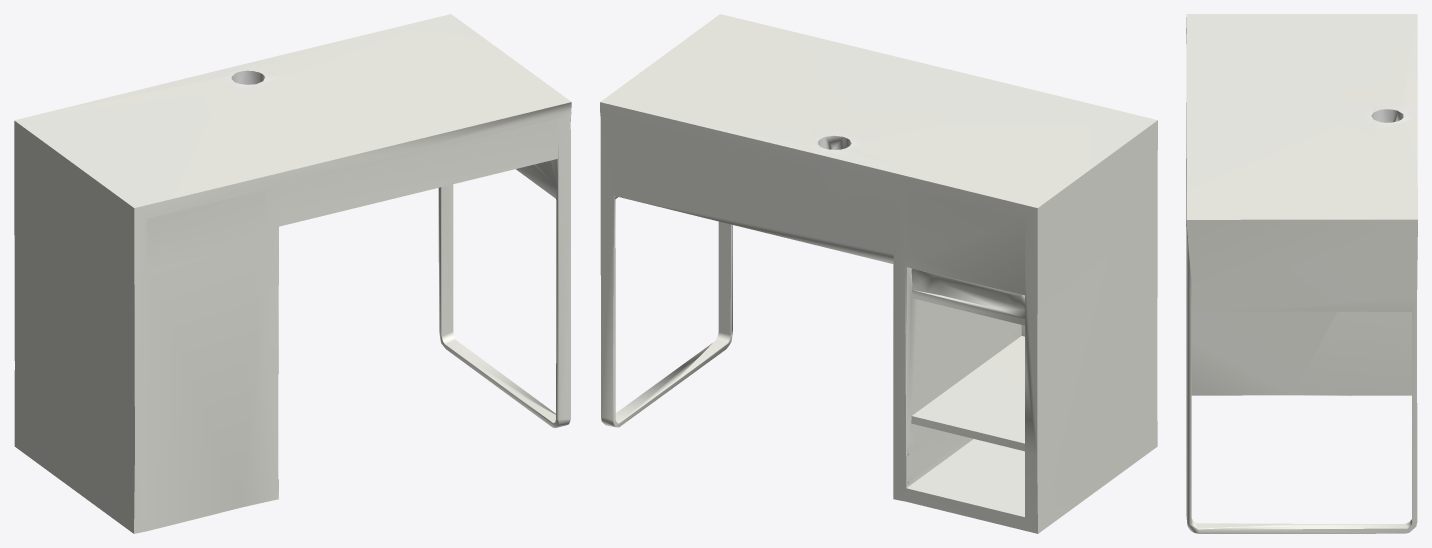
The model's file is 03 - MICKE Desk - white 105x50 cm.glb.
3 renders of one model, left to right at view 1: azimuth 30°, elevation 25°; view 2: azimuth 150°, elevation 25°; view 3: azimuth 270°, elevation 25°, orthographic. The views are drawn at different scales.
Visible parts, largest first — view 1: ProcessedMeshNode; view 2: ProcessedMeshNode; view 3: ProcessedMeshNode.
Boxes of the visible parts, x1,y1,x2,y2 form: ProcessedMeshNode: (14, 14, 571, 533); ProcessedMeshNode: (600, 14, 1157, 533); ProcessedMeshNode: (1186, 14, 1417, 533).
Size of the model in its own units: 1.05 by 0.7546 by 0.501.
1 material, 1 textured.
